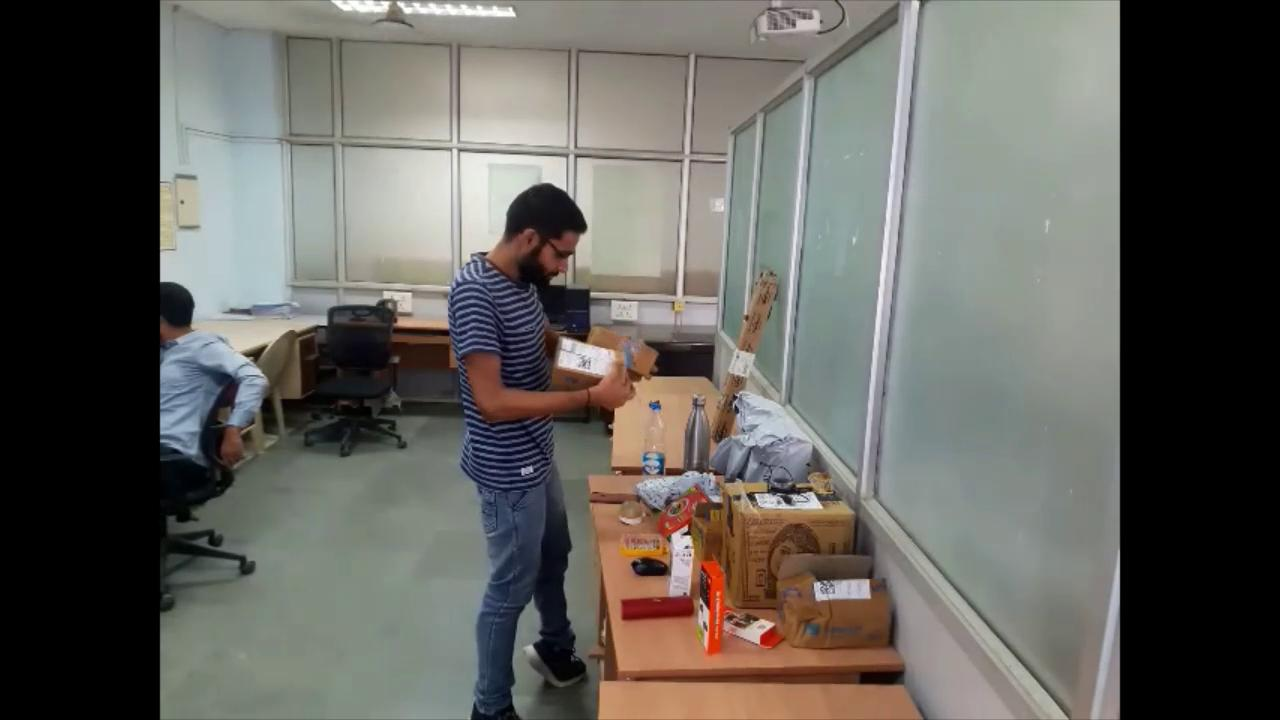Normal: (441, 166, 633, 720)
